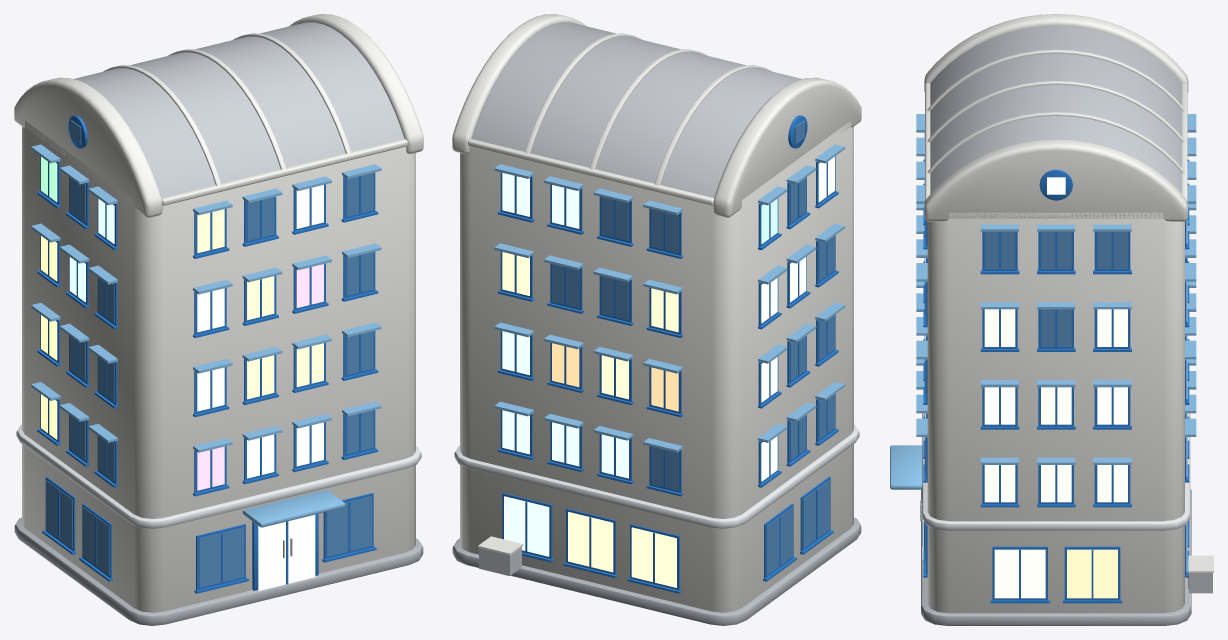
Rendered from escritorio_branco_abobada.glb.
3 renders of one model, left to right at view 1: azimuth 30°, elevation 25°; view 2: azimuth 150°, elevation 25°; view 3: azimuth 270°, elevation 25°, orthographic.
Parts seen in each view (by area): view 1: escritorio_branco_abobada; view 2: escritorio_branco_abobada; view 3: escritorio_branco_abobada.
Part boxes in pixels (box(x1,y1,x2,y2)): escritorio_branco_abobada: box(14, 14, 423, 625); escritorio_branco_abobada: box(452, 14, 861, 625); escritorio_branco_abobada: box(890, 14, 1213, 625).
Size of the model in its own units: 12.64 by 19.68 by 12.08.
Materials: 7 (1 with a texture image).
